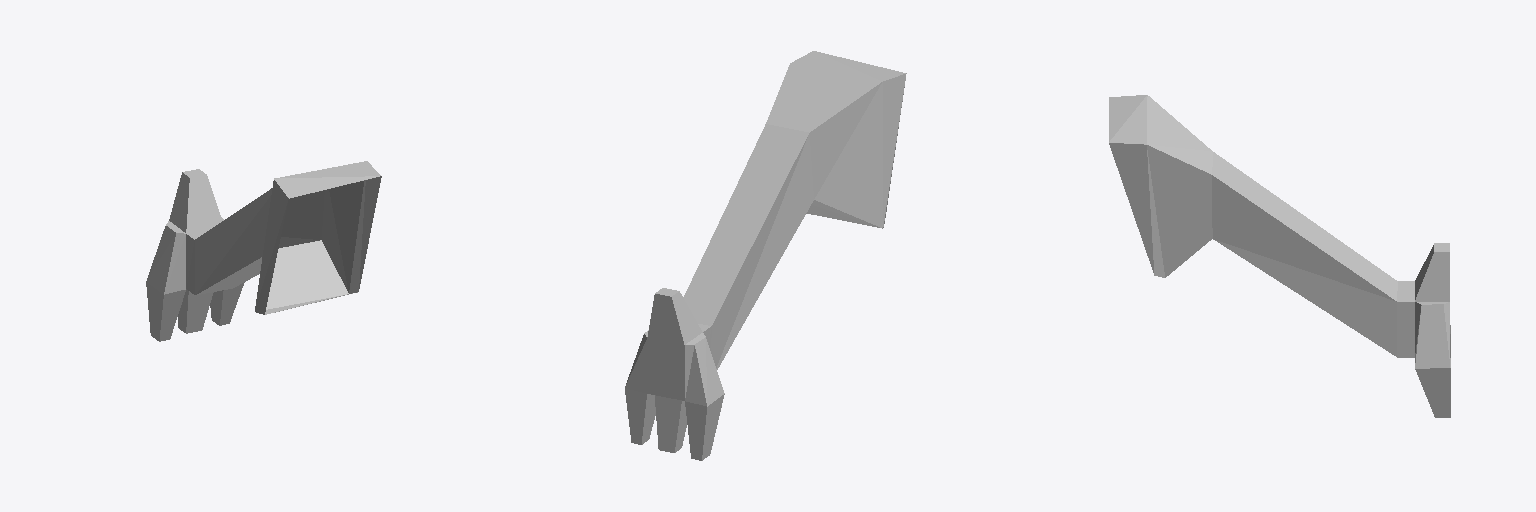
Rendered from pataizq.obj.
3 views of the same model, side by side, from view 1: azimuth 30°, elevation 25°; view 2: azimuth 150°, elevation 25°; view 3: azimuth 270°, elevation 25° (orthographic).
Visible parts, largest first — view 1: CHİCKEN.002; view 2: CHİCKEN.002; view 3: CHİCKEN.002.
Boxes of the visible parts, <box> form: CHİCKEN.002: <box>146,161,381,341</box>; CHİCKEN.002: <box>625,51,906,460</box>; CHİCKEN.002: <box>1109,95,1450,417</box>.
Size of the model in its own units: 0.2418 by 0.5454 by 0.6152.